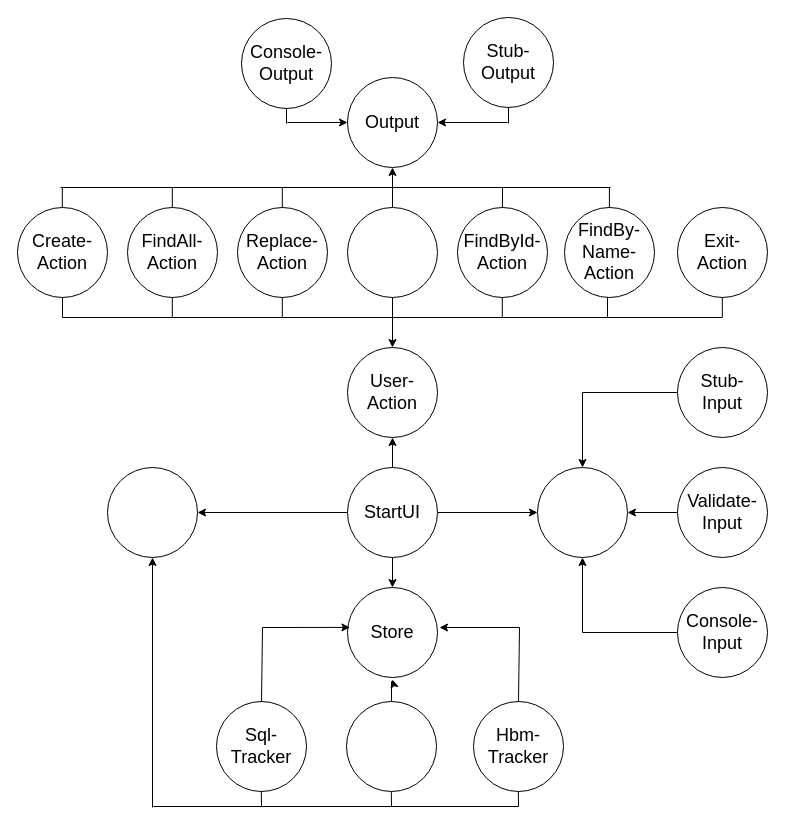
Image size: 785x833. Some labels were removed from this diagram. Each missing label, with the centre of its shape:
"Delete- Action" belongs at [392,252].
"Input" belongs at [582,512].
"Item" belongs at [152,512].
"Mem-Tracker" belongs at [391,746].
